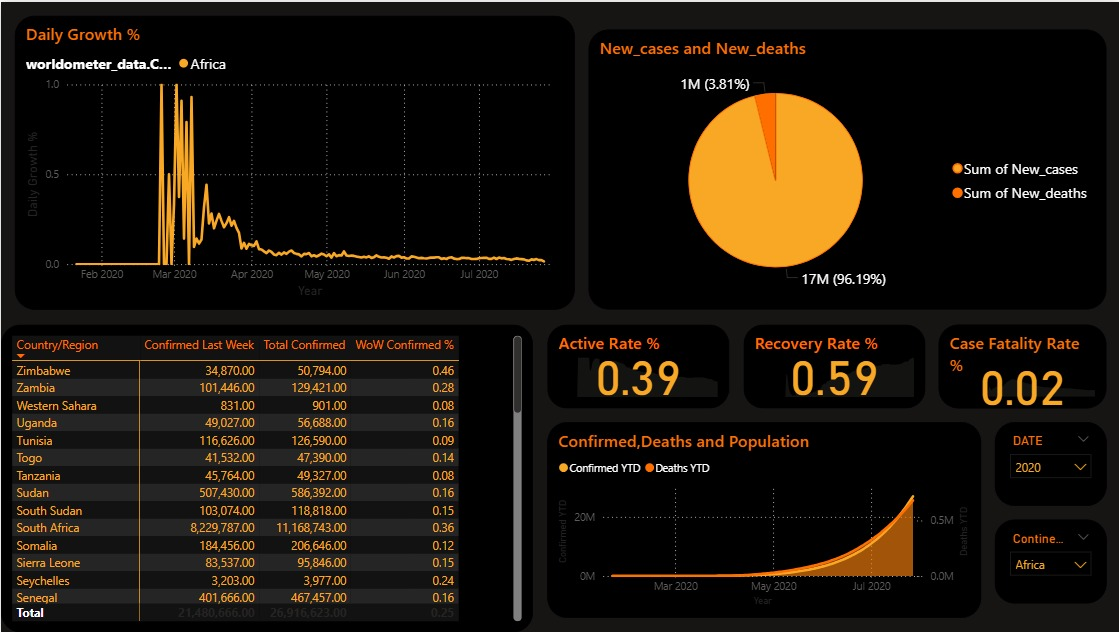

This screenshot's page, from the dashboard's own definition file:
{"tool":"powerbi","page":{"name":"TRENDS & GROWTH","canvas":[1280,720],"ordinal":1},"visuals":[{"type":"slicer","fields":{"Values":["Calendar.Date.Variation.Date Hierarchy.Year","Calendar.Date.Variation.Date Hierarchy.Quarter","Calendar.Date.Variation.Date Hierarchy.Month","Calendar.Date.Variation.Date Hierarchy.Day"]},"box":[1136,480,128,96],"z":0},{"type":"slicer","fields":{"Values":["country_facts.worldometer_data.Continent"]},"box":[1136,592,128,96],"z":1000},{"type":"kpi","title":"Active Rate % ","fields":{"Indicator":["DAX.Active Rate %"],"TrendLine":["Calendar.Date"]},"box":[624,368,208,96],"z":3000},{"type":"kpi","title":"Recovery Rate %","fields":{"Indicator":["DAX.Recovery Rate %"],"TrendLine":["Calendar.Date"]},"box":[848,368,208,96],"z":4000},{"type":"kpi","title":"Case Fatality Rate %","fields":{"Indicator":["DAX.Case Fatality Rate %"],"TrendLine":["Calendar.Date"]},"box":[1072,368,192,96],"z":5000},{"type":"lineChart","title":"Daily Growth % ","fields":{"Y":["DAX.Daily Growth %"],"Series":["country_facts.worldometer_data.Continent"],"Category":["Calendar.Date.Variation.Date Hierarchy.Year","Calendar.Date.Variation.Date Hierarchy.Quarter","Calendar.Date.Variation.Date Hierarchy.Month","Calendar.Date.Variation.Date Hierarchy.Day"]},"box":[16,16,640,336],"z":6000},{"type":"areaChart","title":"Confirmed,Deaths and Population","fields":{"Y":["DAX.Confirmed YTD"],"Y2":["DAX.Deaths YTD"],"Category":["Calendar.Date.Variation.Date Hierarchy.Year","Calendar.Date.Variation.Date Hierarchy.Quarter","Calendar.Date.Variation.Date Hierarchy.Month","Calendar.Date.Variation.Date Hierarchy.Day"]},"box":[624,480,496,224],"z":7000},{"type":"scatterChart","fields":{"Category":["worldometer_data.New_Cases"],"Series":["worldometer_data.Population"],"X":["Sum(worldometer_data.Active_Cases)"],"Y":["Sum(worldometer_data.Total_Cases)"]},"box":[240,384,352,256],"z":8000},{"type":"pieChart","title":"New_cases and  New_deaths","fields":{"Y":["Sum(day_wise.New_cases)","Sum(day_wise.New_deaths)"]},"box":[672,32,592,320],"z":9000},{"type":"pivotTable","fields":{"Rows":["covid_19_clean_complete.Country/Region"],"Values":["DAX.Confirmed Last Week","DAX.Total Confirmed","DAX.WoW Confirmed %"]},"box":[0,368,608,352],"z":10000}]}

Visuals, with their boxes in screenshot pixels (x1, y1, x2, y2), scaled from the page's 1280x720 canvas onto the 1119x632 screenshot:
slicer - Calendar.Date.Variation.Date Hierarchy.Year x Calendar.Date.Variation.Date Hierarchy.Quarter: <box>993,421,1105,506</box>
slicer - country_facts.worldometer_data.Continent: <box>993,520,1105,604</box>
"Active Rate % " kpi: <box>546,323,727,407</box>
"Recovery Rate %" kpi: <box>741,323,923,407</box>
"Case Fatality Rate %" kpi: <box>937,323,1105,407</box>
"Daily Growth % " lineChart: <box>14,14,573,309</box>
"Confirmed,Deaths and Population" areaChart: <box>546,421,979,618</box>
scatterChart - worldometer_data.New_Cases x worldometer_data.Population: <box>210,337,518,562</box>
"New_cases and  New_deaths" pieChart: <box>587,28,1105,309</box>
pivotTable - covid_19_clean_complete.Country/Region x DAX.Confirmed Last Week: <box>0,323,532,631</box>
